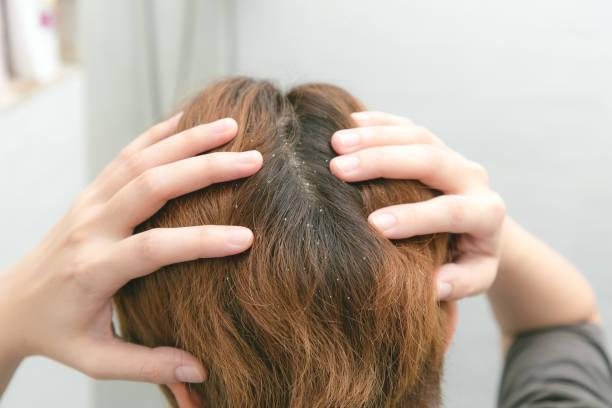dandruff: (311, 199, 332, 214), (329, 271, 349, 286), (295, 157, 318, 169), (279, 210, 291, 230), (221, 274, 238, 284), (266, 149, 276, 160), (231, 201, 241, 211), (304, 218, 313, 229)
